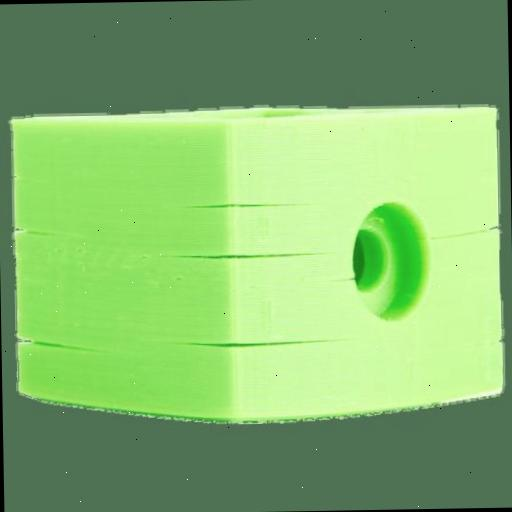cracks: (165, 322, 359, 372), (171, 245, 333, 277), (190, 191, 306, 231), (20, 322, 116, 367)
